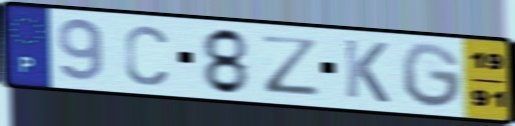8: (198, 24, 251, 98)
9: (55, 16, 107, 84)
C: (122, 22, 171, 88)
G: (398, 40, 464, 111)
K: (341, 36, 392, 106)
Z: (257, 33, 323, 98)
